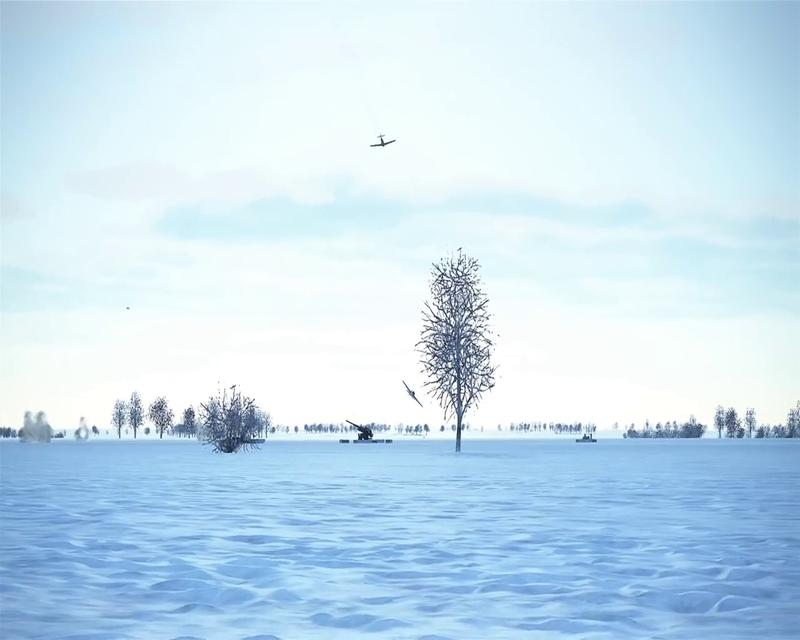UAV: (369, 132, 396, 148)
